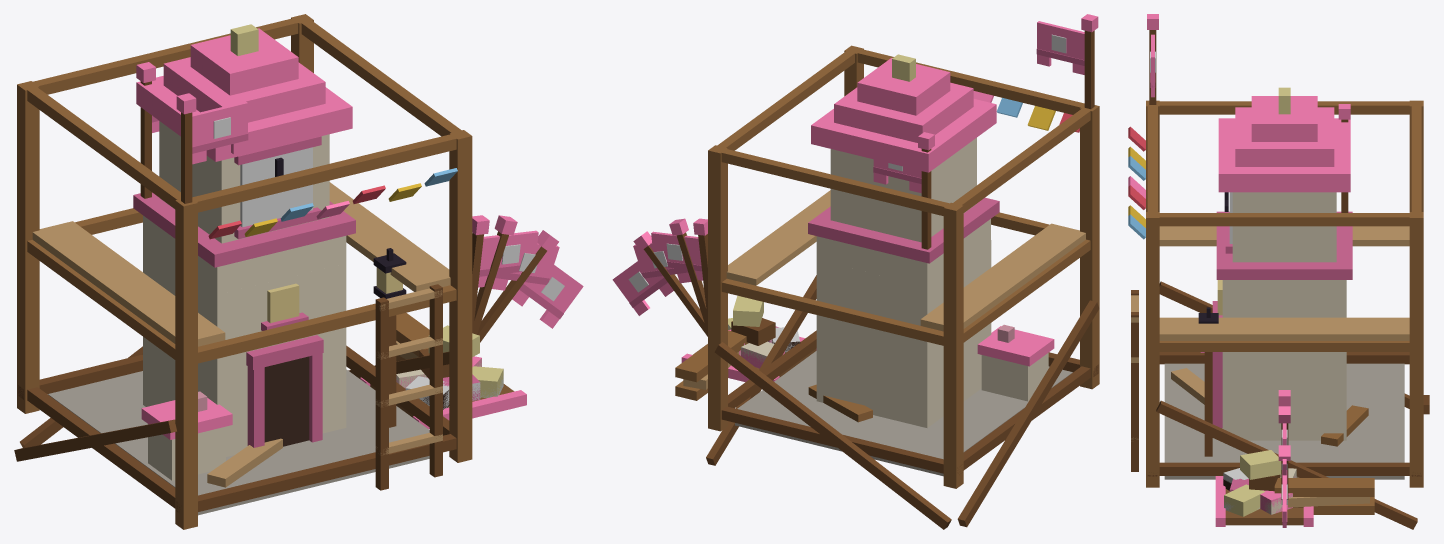
The model's file is opossum-research.glb.
3 views of the same model, side by side, from view 1: azimuth 30°, elevation 25°; view 2: azimuth 150°, elevation 25°; view 3: azimuth 270°, elevation 25° (orthographic). The views are drawn at different scales.
Visible parts, largest first — view 1: scaffold-mesh, built-mesh, dismantle-25-mesh, dismantle-75-mesh, dismantle-50-mesh, scaffold-banner, dismantle-25-banner, dismantle-75-banner, scaffold-flag-pole, dismantle-25-flag-pole, dismantle-50-banner, dismantle-50-flag-pole (+2 smaller); view 2: scaffold-mesh, built-mesh, dismantle-25-mesh, dismantle-75-mesh, scaffold-banner, dismantle-25-banner, dismantle-75-banner, dismantle-50-mesh, dismantle-50-banner, scaffold-flag-pole, dismantle-25-flag-pole, dismantle-50-flag-pole (+3 smaller); view 3: scaffold-mesh, built-mesh, dismantle-25-mesh, dismantle-75-mesh, dismantle-50-mesh, scaffold-flag-pole, flag-pole.
Part boxes in pixels (x1=…): scaffold-mesh: x1=14, y1=14, x2=472, y2=529; built-mesh: x1=48, y1=24, x2=429, y2=515; dismantle-25-mesh: x1=48, y1=325, x2=526, y2=495; dismantle-75-mesh: x1=133, y1=184, x2=526, y2=480; dismantle-50-mesh: x1=148, y1=356, x2=526, y2=487; scaffold-banner: x1=192, y1=101, x2=248, y2=164; dismantle-25-banner: x1=512, y1=257, x2=583, y2=328; dismantle-75-banner: x1=478, y1=230, x2=538, y2=287; scaffold-flag-pole: x1=176, y1=93, x2=196, y2=203; dismantle-25-flag-pole: x1=477, y1=230, x2=558, y2=342; dismantle-50-banner: x1=492, y1=240, x2=559, y2=295; dismantle-50-flag-pole: x1=473, y1=215, x2=517, y2=334; scaffold-mesh: x1=675, y1=45, x2=1099, y2=529; built-mesh: x1=735, y1=54, x2=1072, y2=476; dismantle-25-mesh: x1=682, y1=296, x2=1072, y2=459; dismantle-75-mesh: x1=681, y1=197, x2=1053, y2=401; scaffold-banner: x1=1036, y1=21, x2=1084, y2=74; dismantle-25-banner: x1=612, y1=254, x2=673, y2=315; dismantle-75-banner: x1=651, y1=231, x2=702, y2=280; dismantle-50-mesh: x1=681, y1=318, x2=1048, y2=393; dismantle-50-banner: x1=633, y1=240, x2=691, y2=287; scaffold-flag-pole: x1=1081, y1=14, x2=1098, y2=109; dismantle-25-flag-pole: x1=633, y1=231, x2=707, y2=336; dismantle-50-flag-pole: x1=669, y1=218, x2=707, y2=330; scaffold-mesh: x1=1128, y1=100, x2=1429, y2=529; built-mesh: x1=1164, y1=87, x2=1404, y2=479; dismantle-25-mesh: x1=1164, y1=363, x2=1404, y2=526; dismantle-75-mesh: x1=1206, y1=210, x2=1352, y2=526; dismantle-50-mesh: x1=1171, y1=356, x2=1296, y2=516; scaffold-flag-pole: x1=1147, y1=14, x2=1158, y2=104; flag-pole: x1=1338, y1=104, x2=1350, y2=212.
Size of the model in its own units: 2.35 by 2.19 by 1.51.
